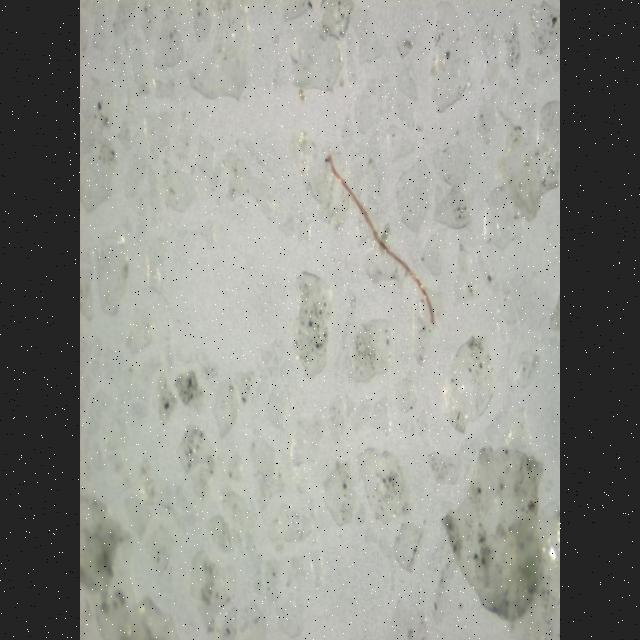Fibre: (320, 150, 436, 328)
